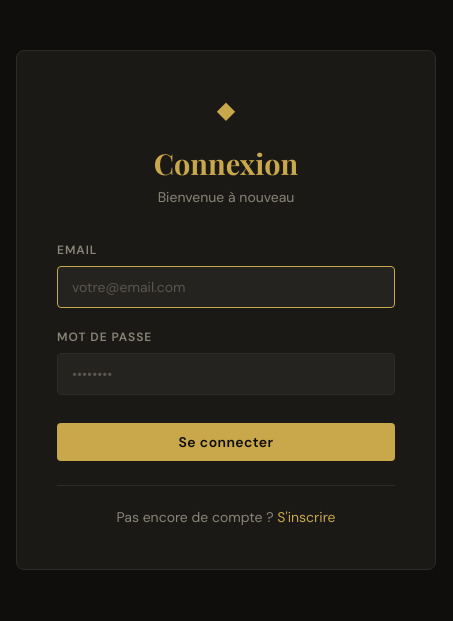
Test: Login page › shows error message on failed login
Step 1. Type "test@test.com" into the field with placeholder "votre@email.com" → (226, 287), box [57,266,395,308]
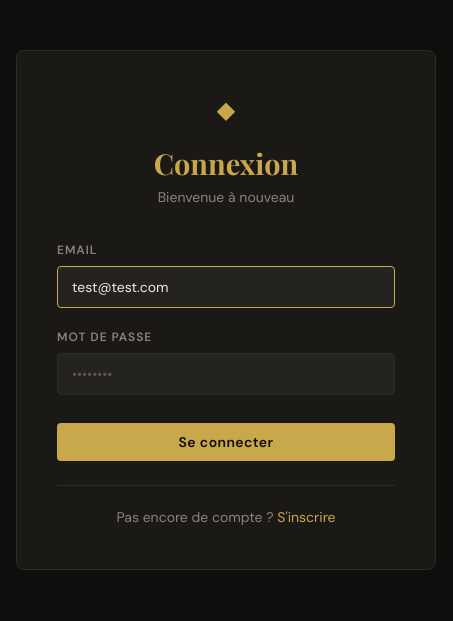
Step 2. Type "wrong" into the password field with placeholder "••••••••" → (226, 374), box [57,353,395,395]
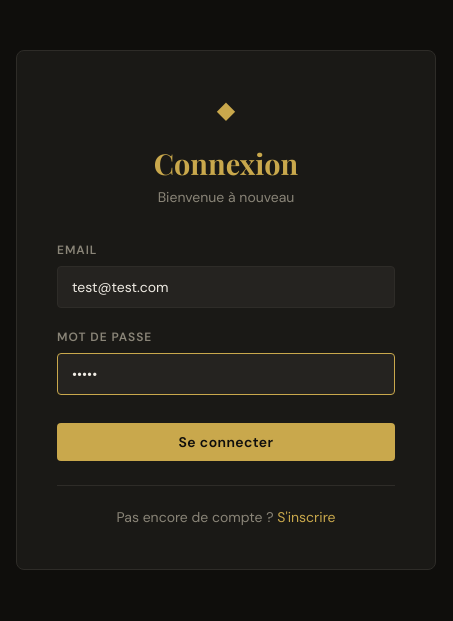
Step 3. Click the button "Se connecter" → (226, 442), box [57,423,395,461]
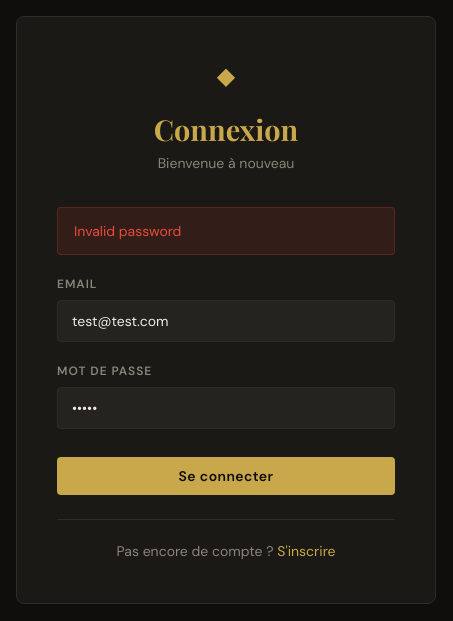
Result: the text "Invalid password" is shown at [57,207,395,255]
